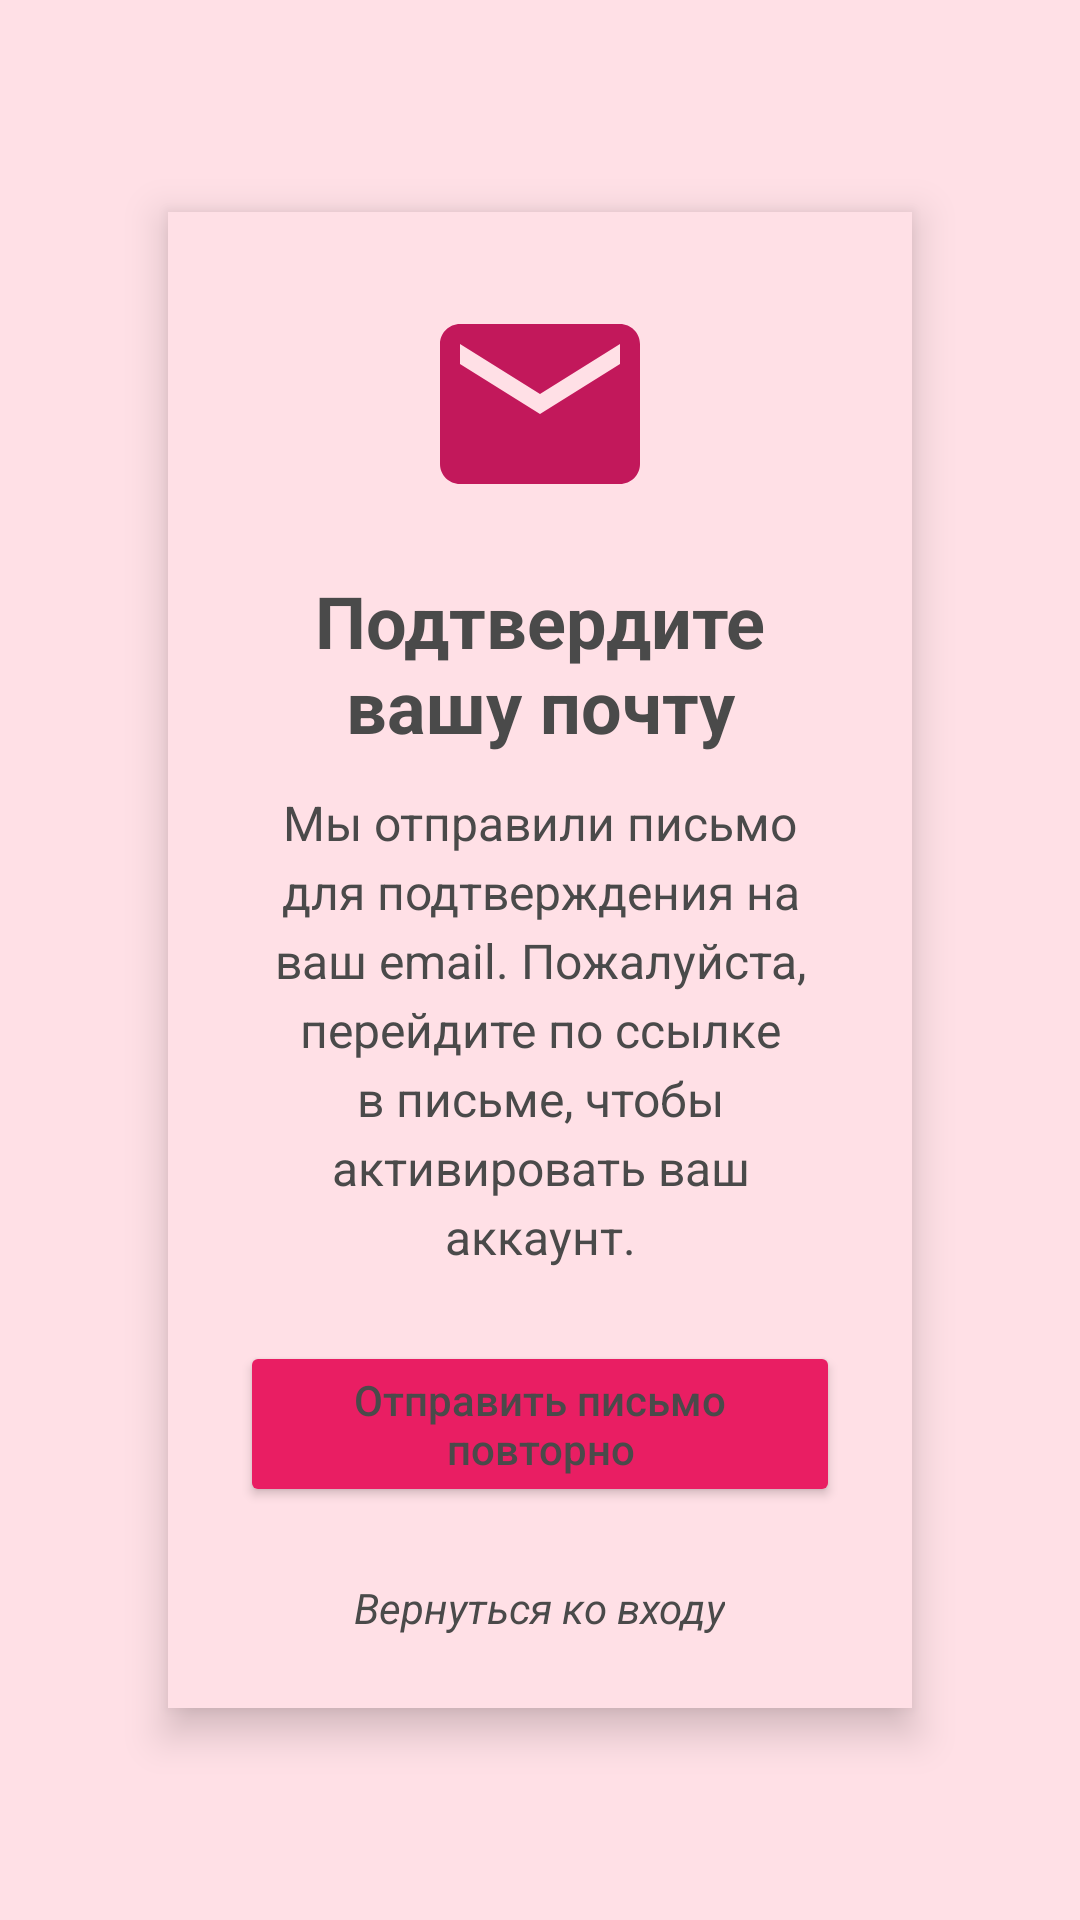

Where to tap for icons on this 1080 x 1920 app screen, as (x,y):
email: (540,404)
